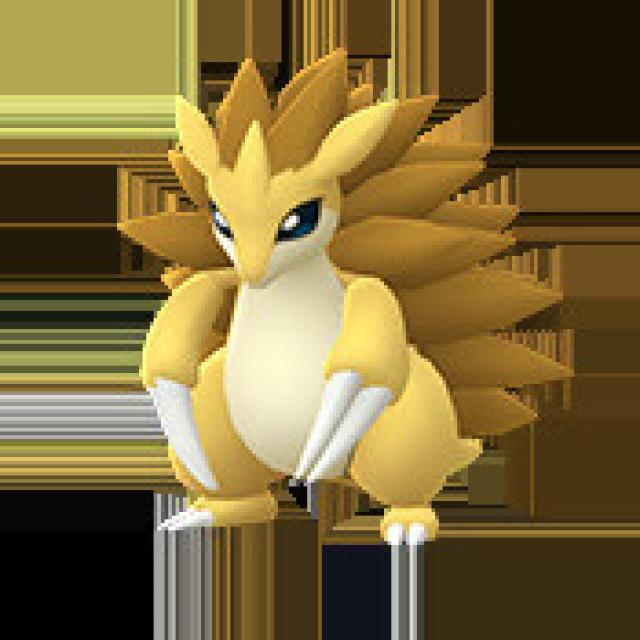Sandslash: (146, 61, 546, 542)
